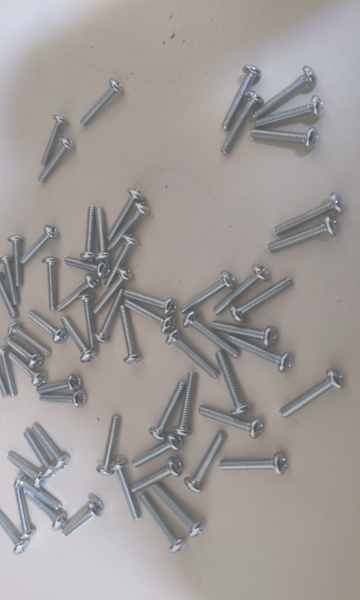longscrew: (213, 263, 273, 317), (231, 273, 297, 321), (134, 494, 187, 552), (254, 69, 317, 117), (284, 373, 344, 423), (183, 431, 228, 496), (178, 270, 238, 317), (269, 195, 342, 232), (266, 220, 338, 257), (197, 400, 265, 439), (219, 92, 262, 153), (151, 484, 201, 536), (217, 66, 259, 127), (183, 315, 237, 359), (79, 77, 124, 127), (227, 338, 293, 372), (107, 204, 151, 255), (105, 189, 149, 240), (166, 334, 218, 377), (146, 379, 183, 439), (215, 352, 249, 415), (109, 457, 141, 521), (99, 237, 138, 289), (131, 458, 183, 494), (255, 99, 324, 125), (132, 436, 186, 469), (34, 422, 70, 471), (252, 127, 321, 152), (38, 138, 76, 181), (61, 318, 95, 366), (92, 271, 131, 312), (23, 495, 66, 532), (126, 302, 174, 335), (216, 453, 291, 474), (25, 427, 55, 479), (95, 290, 125, 342), (174, 373, 196, 442), (5, 453, 47, 489), (99, 413, 123, 475), (40, 113, 65, 171), (64, 501, 102, 539), (6, 350, 45, 387), (3, 333, 42, 370), (8, 321, 47, 358), (15, 479, 63, 509), (21, 226, 58, 264), (27, 307, 66, 343), (57, 278, 98, 312), (119, 301, 140, 366), (211, 322, 282, 341), (12, 483, 34, 541), (0, 512, 30, 553), (127, 290, 178, 314), (0, 345, 21, 398), (0, 253, 20, 304), (41, 390, 92, 408), (36, 376, 87, 394), (61, 257, 109, 275), (9, 233, 24, 289), (83, 293, 97, 352), (95, 202, 108, 262), (0, 275, 17, 319), (83, 202, 95, 262), (45, 251, 56, 315), (0, 346, 8, 399)
